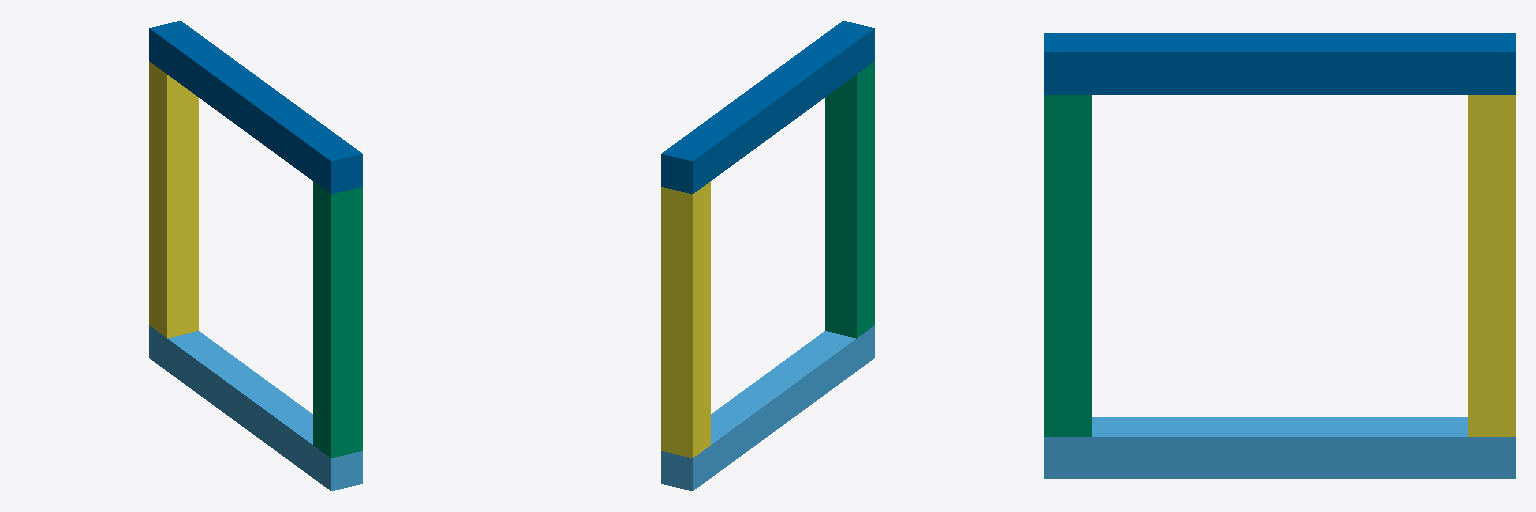
URDF robot description (cube):
<?xml version="1.0"?>
<robot name="cube">

  <link name="base_link">
    <!-- <collision> -->
    <!--   <geometry> -->
    <!--     <box size="0 0 0"/> -->
    <!--   </geometry> -->
    <!-- </collision> -->
    <inertial>
      <mass value="1"/>
    	<inertia ixx="0.0" ixy="0.0" ixz="0.0" iyy="0.0" iyz="0.0" izz="0.0"/>
  	</inertial>
    <visual>
      <geometry>
        <box size="0 0 0"/>
      </geometry>
    </visual>
  </link>

  <link name="bottom_link">
    <collision>
      <geometry>
        <box size="0.05 0.5 0.05"/>
      </geometry>
    </collision>
    <inertial>
      <mass value="1"/>
    	<inertia ixx="0.3" ixy="0.3" ixz="0.3" iyy="0.3" iyz="0.3" izz="0.3"/>
  	</inertial>
    <visual>
      <geometry>
        <box size="0.05 0.5 0.05"/>
      </geometry>
    </visual>
  </link>

  <link name="left_link">
    <collision>
      <geometry>
        <box size="0.05 0.05 0.4"/>
      </geometry>
    </collision>
    <inertial>
      <mass value="1"/>
    	<inertia ixx="0.3" ixy="0.3" ixz="0.3" iyy="0.3" iyz="0.3" izz="0.3"/>
  	</inertial>
    <visual>
      <geometry>
        <box size="0.05 0.05 0.4"/>
      </geometry>
    </visual>
  </link>

  <link name="right_link">
    <collision>
      <geometry>
        <box size="0.05 0.05 0.4"/>
      </geometry>
    </collision>
    <inertial>
      <mass value="1"/>
    	<inertia ixx="0.3" ixy="0.3" ixz="0.3" iyy="0.3" iyz="0.3" izz="0.3"/>
  	</inertial>
    <visual>
      <geometry>
        <box size="0.05 0.05 0.4"/>
      </geometry>
    </visual>
  </link>

  <link name="top_link">
    <collision>
      <geometry>
        <box size="0.05 0.5 0.05"/>
      </geometry>
    </collision>
    <inertial>
      <mass value="1"/>
    	<inertia ixx="0.3" ixy="0.3" ixz="0.3" iyy="0.3" iyz="0.3" izz="0.3"/>
  	</inertial>
    <visual>
      <geometry>
        <box size="0.05 0.5 0.05"/>
      </geometry>
    </visual>
  </link>

  <joint name="base_to_bottom" type="fixed">
    <parent link="base_link"/>
    <child link="bottom_link"/>
    <origin xyz="0.0 0.0 -0.225"/>
  </joint>

  <joint name="base_to_left" type="fixed">
    <parent link="base_link"/>
    <child link="left_link"/>
    <origin xyz="0.0 -0.225 0.0"/>
  </joint>

  <joint name="base_to_right" type="fixed">
    <parent link="base_link"/>
    <child link="right_link"/>
    <origin xyz="0.0 0.225 0.0"/>
  </joint>

  <joint name="base_to_top" type="fixed">
    <parent link="base_link"/>
    <child link="top_link"/>
    <origin xyz="0.0 0.0 0.225"/>
  </joint>
</robot>

--- Facts derived from the render (not from the file) ---
The picture shows the robot from 3 angles, left to right: view 1: azimuth 30°, elevation 25°; view 2: azimuth 150°, elevation 25°; view 3: azimuth 270°, elevation 25°; orthographic projection.
Robot: cube — 5 links, 4 joints (4 fixed); root link base_link; default pose: all joints at 0.
Visible links, largest first — view 1: left_link, right_link, top_link, bottom_link; view 2: right_link, left_link, top_link, bottom_link; view 3: top_link, bottom_link, left_link, right_link.
Link boxes in pixels (left/top/right/bottom): left_link: left=313, top=181, right=362, bottom=457; right_link: left=149, top=61, right=198, bottom=338; top_link: left=149, top=21, right=362, bottom=193; bottom_link: left=149, top=325, right=362, bottom=490; right_link: left=661, top=181, right=710, bottom=457; left_link: left=825, top=61, right=874, bottom=338; top_link: left=661, top=21, right=874, bottom=193; bottom_link: left=661, top=325, right=874, bottom=490; top_link: left=1044, top=33, right=1515, bottom=94; bottom_link: left=1044, top=417, right=1515, bottom=478; left_link: left=1044, top=95, right=1091, bottom=436; right_link: left=1468, top=95, right=1515, bottom=436.
Bounding box of the posed robot: 0.05 × 0.5 × 0.5 m (x, y, z).
Geometry: primitives only (box / cylinder / sphere), no mesh files.